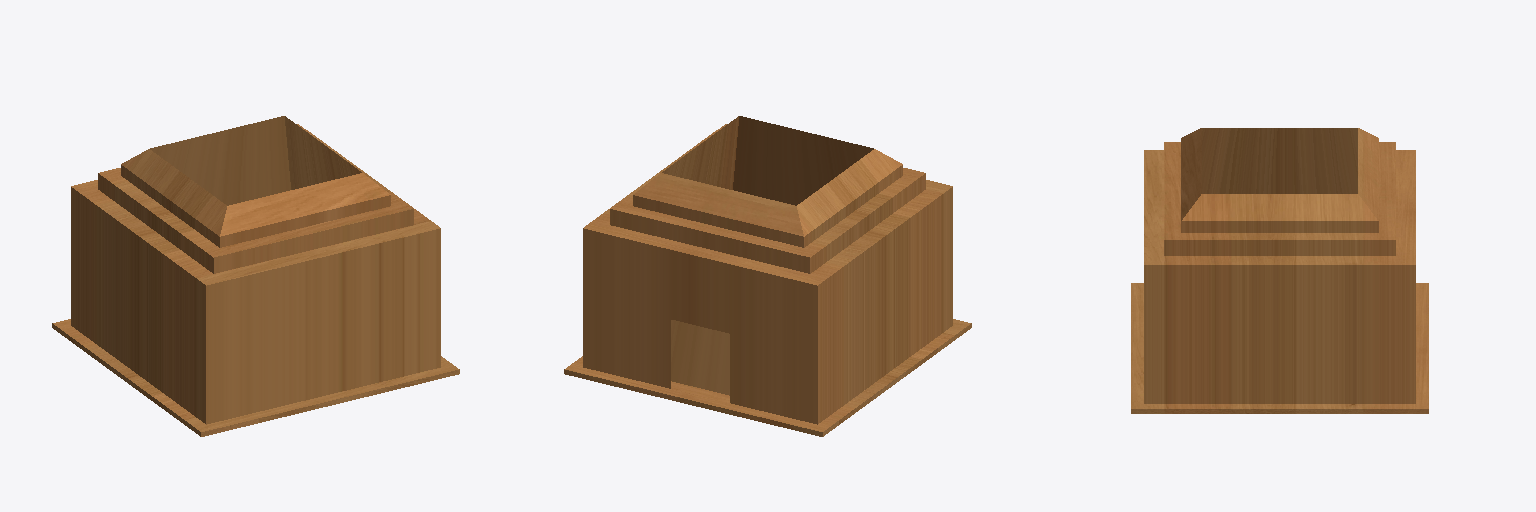
3 views of the same model, side by side, from view 1: azimuth 30°, elevation 25°; view 2: azimuth 150°, elevation 25°; view 3: azimuth 270°, elevation 25° (orthographic).
Visible parts, largest first — view 1: test_home; view 2: test_home; view 3: test_home.
Part boxes in pixels (x1,y1,x2,y2): test_home: (52,116,459,436); test_home: (564,116,971,436); test_home: (1131,128,1428,413).
Bounding box in the file's own units: 11.82 × 8.33 × 11.82.
Materials: 1 (1 with a texture image).